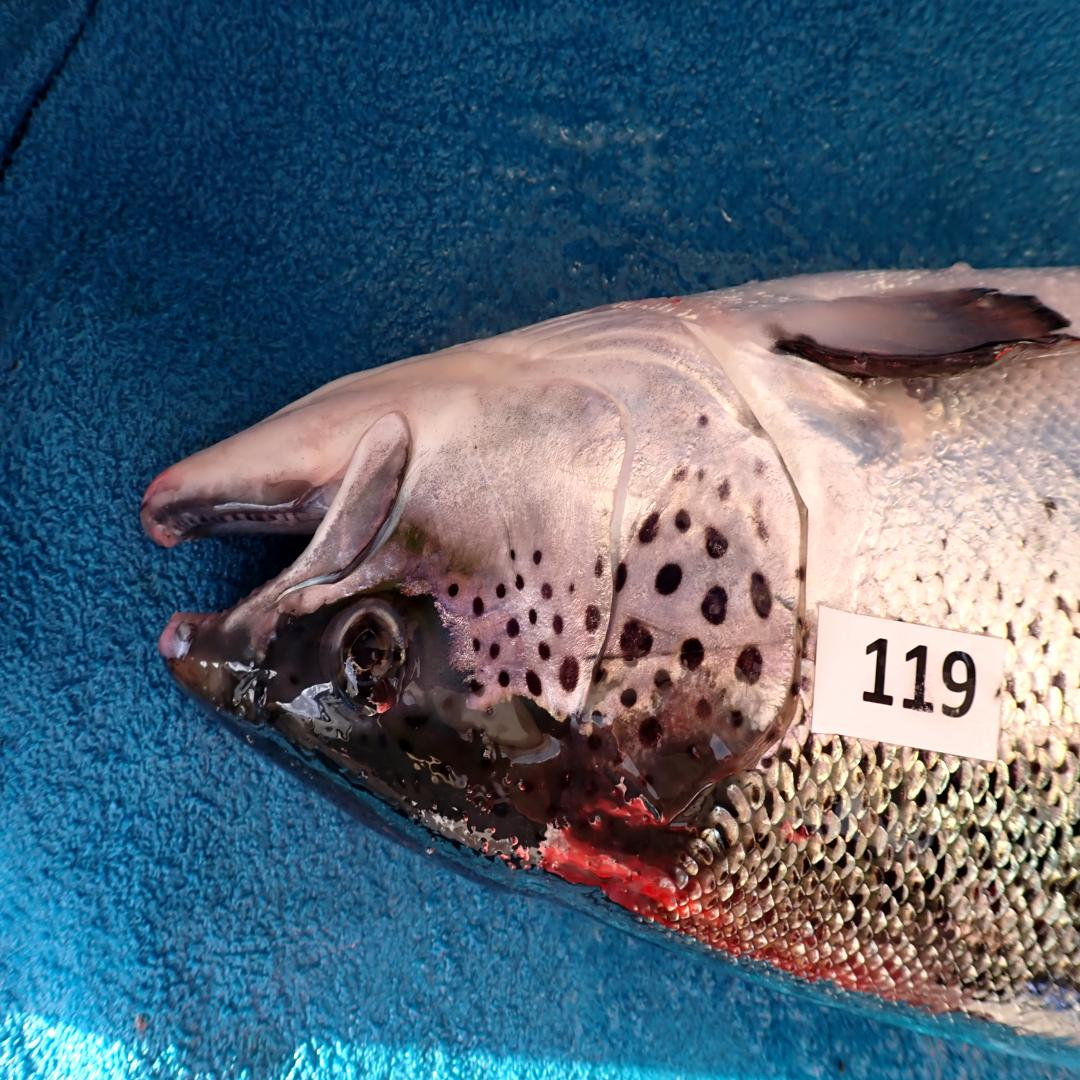roi: (411, 294, 815, 753)
